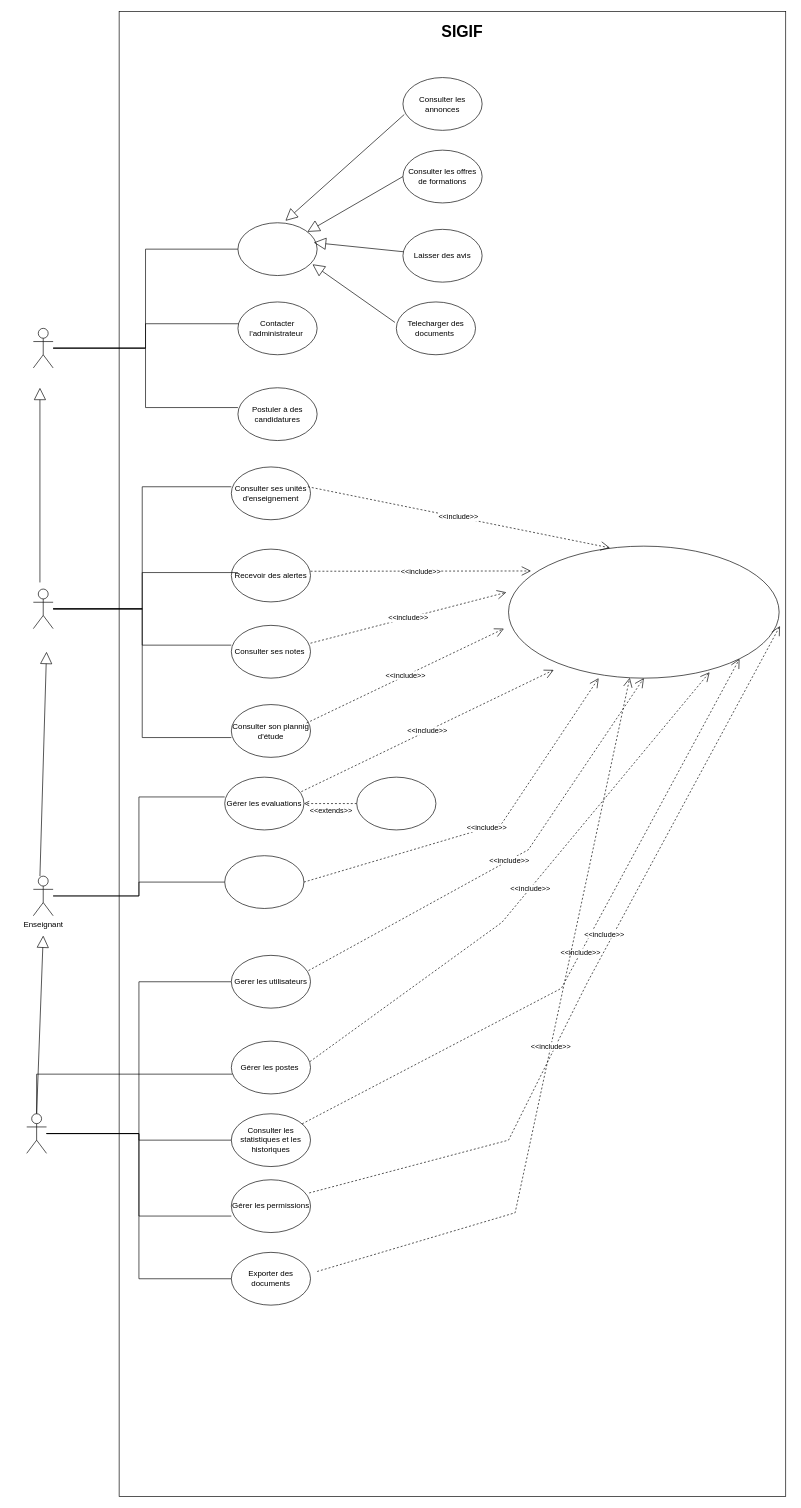
This 801x1508 diagram has some shape labels left out. The shapes that lost their labels are listed below. From the top down, each one's centre as x and y in pixels, then its label:
At (277,249): "Consulter le catalogue".
At (43,348): "Visiteur".
At (43,608): "Etudiant".
At (643,611): "S'authentifier".
At (396,803): "Saisir les notes".
At (264,881): "Publier des contenus pédagogiques".
At (36,1133): "Administrateur".
